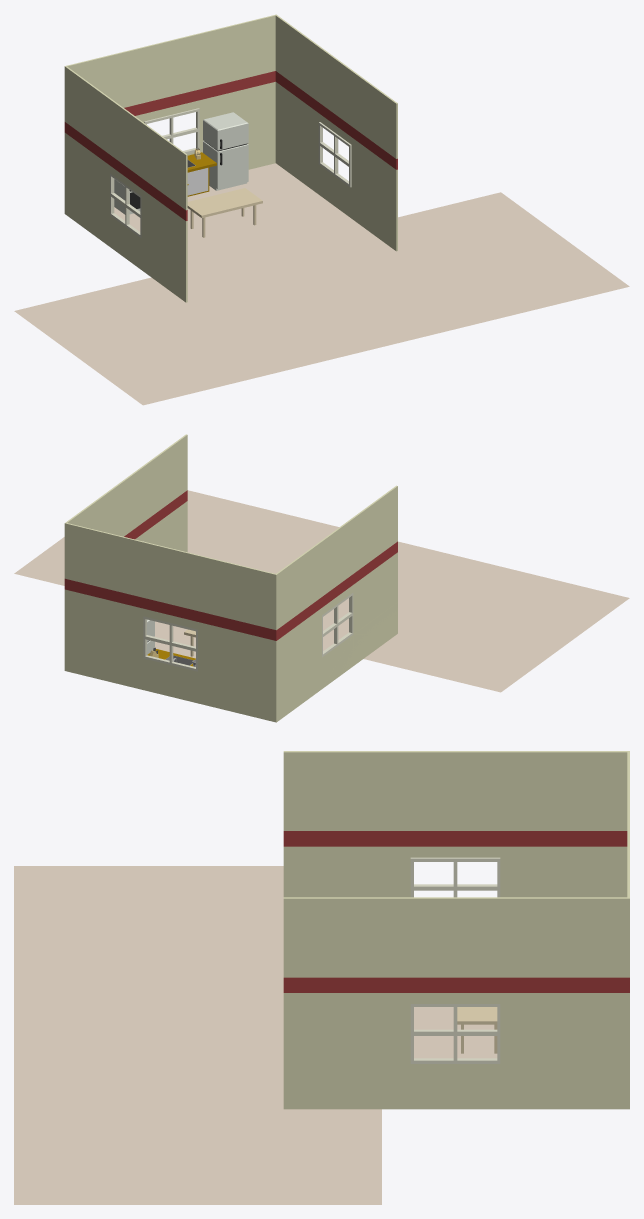
3 renders of one model, top to bottom at view 1: azimuth 30°, elevation 25°; view 2: azimuth 150°, elevation 25°; view 3: azimuth 270°, elevation 25°, orthographic. The views are drawn at different scales.
Visible parts, largest first — view 1: ground, walls, fridge, table; view 2: walls, ground; view 3: walls, ground, table.
Part boxes in pixels (<box>): ground: <box>14,163,629,405</box>; walls: <box>64,14,397,302</box>; fridge: <box>203,112,248,190</box>; table: <box>187,188,262,237</box>; walls: <box>64,434,397,722</box>; ground: <box>14,490,629,692</box>; walls: <box>283,751,629,1109</box>; ground: <box>14,866,497,1204</box>; table: <box>457,1007,497,1053</box>.
Bounding box in the file's own units: 382 × 111 × 294.
